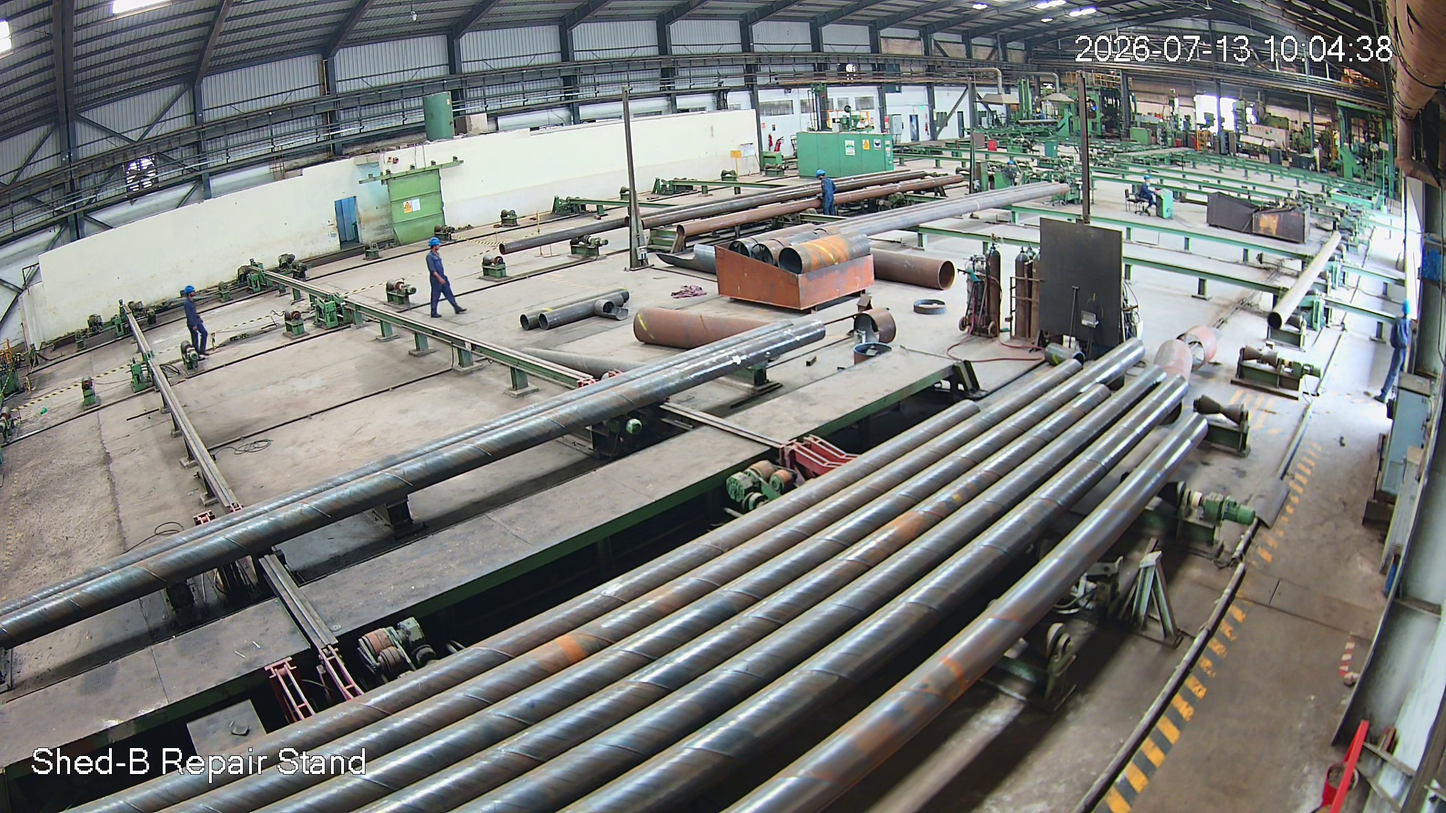Helmet: (426, 237, 449, 259), (184, 285, 200, 299)
Person: (422, 238, 469, 319), (182, 286, 209, 359)
